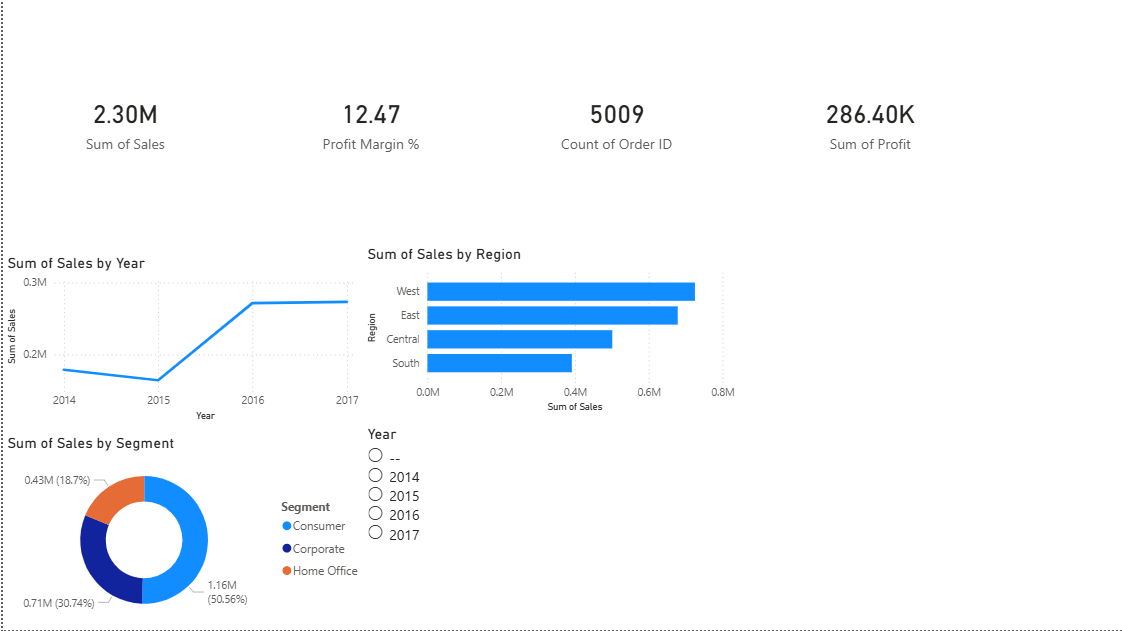

What the dashboard file says about the page in this screenshot:
{"tool":"powerbi","page":{"name":"Executive Summary","canvas":[1280,720],"ordinal":0},"visuals":[{"type":"card","fields":{"Values":["Sum(Sample - Superstore (2).Sales)"]},"box":[0,0,280,280],"z":0},{"type":"card","fields":{"Values":["Sum(Sample - Superstore (2).Profit)"]},"box":[850.8,0,279.9,279.9],"z":1000},{"type":"card","fields":{"Values":["Sample - Superstore.Profit Margin %"]},"box":[279.9,0,281.3,279.9],"z":2000},{"type":"card","fields":{"Values":["Count(Sample - Superstore.Order ID)"]},"box":[561.2,0,279.9,279.9],"z":3000},{"type":"lineChart","fields":{"Y":["Sum(Sample - Superstore.Sales)"],"Category":["Sample - Superstore.Order Date.Variation.Date Hierarchy.Year","Sample - Superstore.Order Date.Variation.Date Hierarchy.Month"]},"box":[0,290,411.2,196.2],"z":4000},{"type":"clusteredBarChart","fields":{"Y":["Sum(Sample - Superstore.Sales)"],"Category":["Sample - Superstore.Region"]},"box":[411.2,280,430,196.2],"z":5000},{"type":"donutChart","fields":{"Category":["Sample - Superstore.Segment"],"Y":["Sum(Sample - Superstore.Sales)"]},"box":[0,496.2,420,223.8],"z":6000},{"type":"listSlicer","fields":{"Values":["Sample - Superstore.Order Date.Variation.Date Hierarchy.Year"]},"box":[411.2,486.2,430,211.2],"z":7000}]}

Visuals, with their boxes in screenshot pixels (x1, y1, x2, y2), scaled from the page's 1280x720 canvas onto the 1122x631 screenshot:
card - Sum(Sample - Superstore (2).Sales): <bbox>0, 0, 245, 245</bbox>
card - Sum(Sample - Superstore (2).Profit): <bbox>746, 0, 991, 245</bbox>
card - Sample - Superstore.Profit Margin %: <bbox>245, 0, 492, 245</bbox>
card - Count(Sample - Superstore.Order ID): <bbox>492, 0, 737, 245</bbox>
lineChart - Sum(Sample - Superstore.Sales) x Sample - Superstore.Order Date.Variation.Date Hierarchy.Year: <bbox>0, 254, 360, 426</bbox>
clusteredBarChart - Sum(Sample - Superstore.Sales) x Sample - Superstore.Region: <bbox>360, 245, 737, 417</bbox>
donutChart - Sample - Superstore.Segment x Sum(Sample - Superstore.Sales): <bbox>0, 435, 368, 630</bbox>
listSlicer - Sample - Superstore.Order Date.Variation.Date Hierarchy.Year: <bbox>360, 426, 737, 611</bbox>
